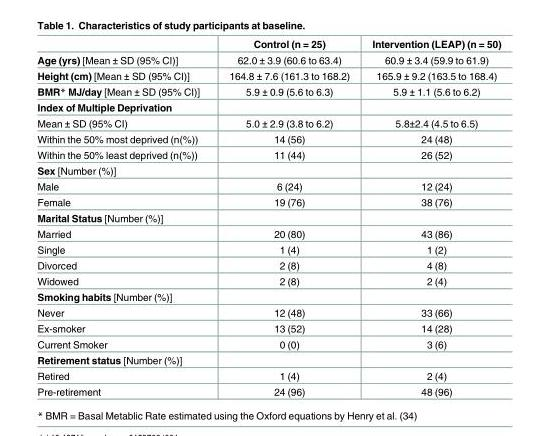table: (36, 37, 500, 396)
table column: (36, 37, 213, 396), (213, 37, 360, 396), (360, 37, 500, 396)
table column header: (36, 37, 500, 51)
table projected row header: (36, 162, 500, 178), (36, 209, 500, 225), (36, 288, 500, 304), (36, 351, 500, 367), (36, 99, 500, 114)
table row: (36, 51, 500, 67), (36, 67, 500, 83), (36, 83, 500, 99), (36, 114, 500, 130), (36, 130, 500, 146), (36, 146, 500, 162), (36, 162, 500, 178), (36, 193, 500, 209), (36, 209, 500, 225), (36, 225, 500, 241), (36, 241, 500, 257), (36, 272, 500, 288), (36, 288, 500, 304), (36, 304, 500, 320), (36, 335, 500, 351), (36, 351, 500, 367), (36, 367, 500, 383), (36, 99, 500, 114), (36, 178, 500, 193), (36, 257, 500, 272), (36, 320, 500, 335), (36, 37, 500, 51), (36, 383, 500, 396)
